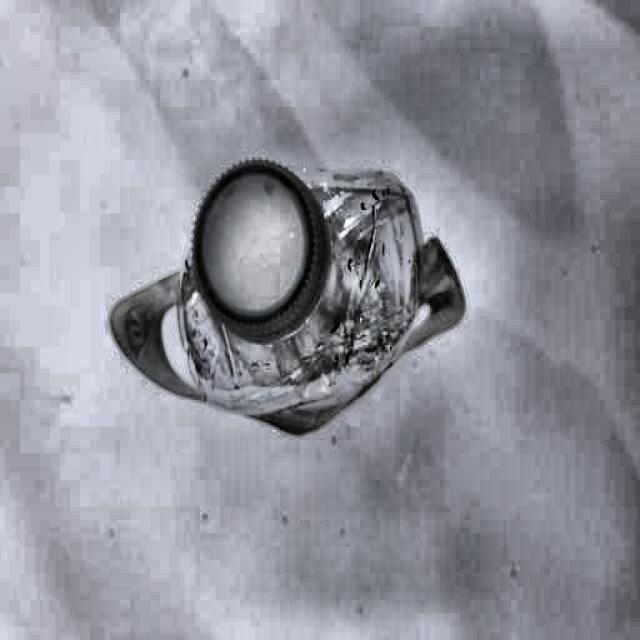plastic: (179, 154, 432, 402)
